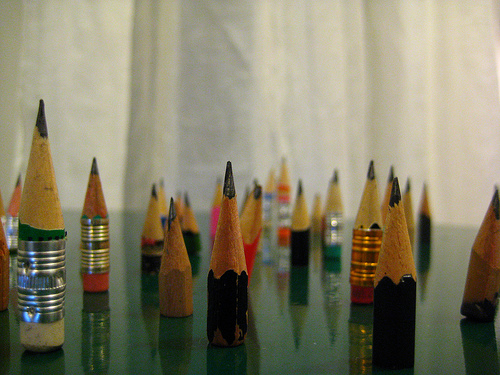pen_tip: (12, 92, 77, 249), (374, 168, 429, 309), (205, 156, 257, 296)
